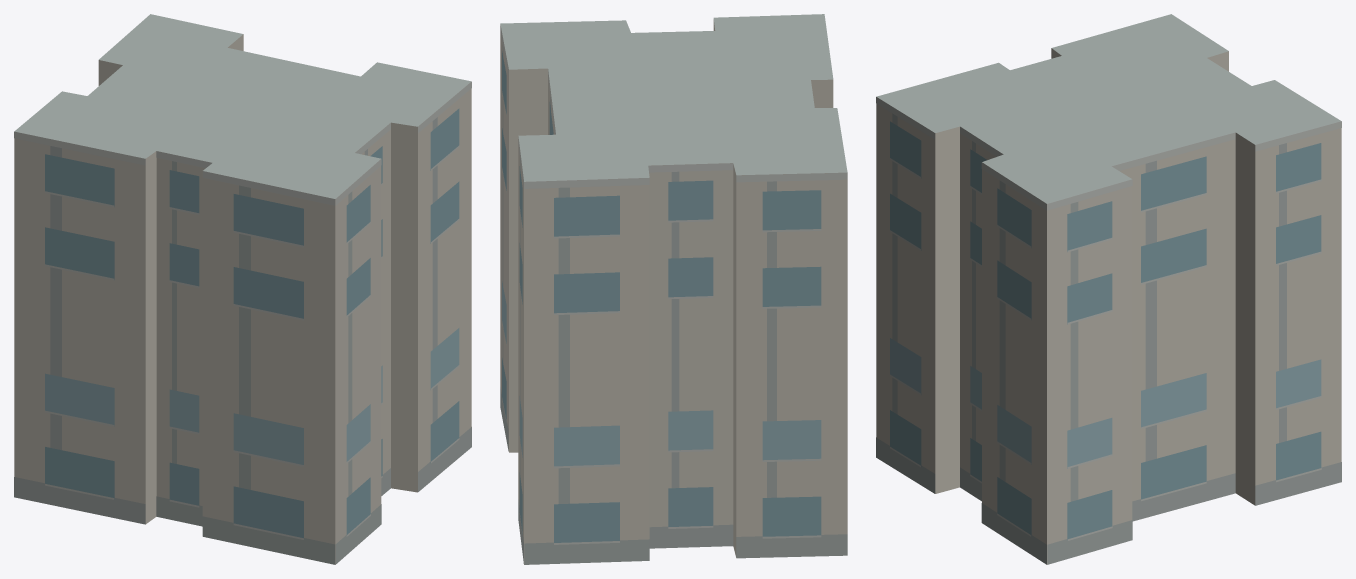
The model's file is survey-upis-33043805.glb.
3 views of the same model, side by side, from view 1: azimuth 30°, elevation 25°; view 2: azimuth 150°, elevation 25°; view 3: azimuth 270°, elevation 25° (orthographic). The views are drawn at different scales.
Visible parts, largest first — view 1: survey-upis-33043805.tmp; view 2: survey-upis-33043805.tmp; view 3: survey-upis-33043805.tmp.
Part boxes in pixels (x1,y1,x2,y2): survey-upis-33043805.tmp: [14, 14, 471, 564]; survey-upis-33043805.tmp: [500, 14, 847, 564]; survey-upis-33043805.tmp: [876, 14, 1341, 564].
Size of the model in its own units: 14.8 by 13.1 by 15.33.
